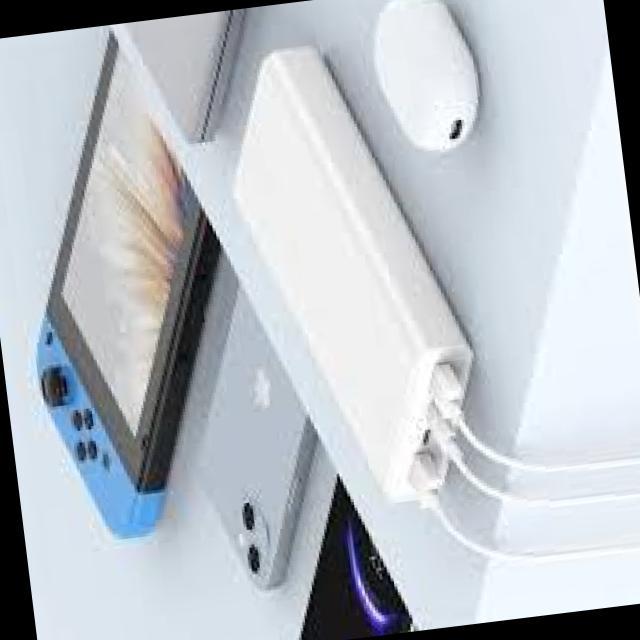portable-charger: (212, 23, 498, 514)
